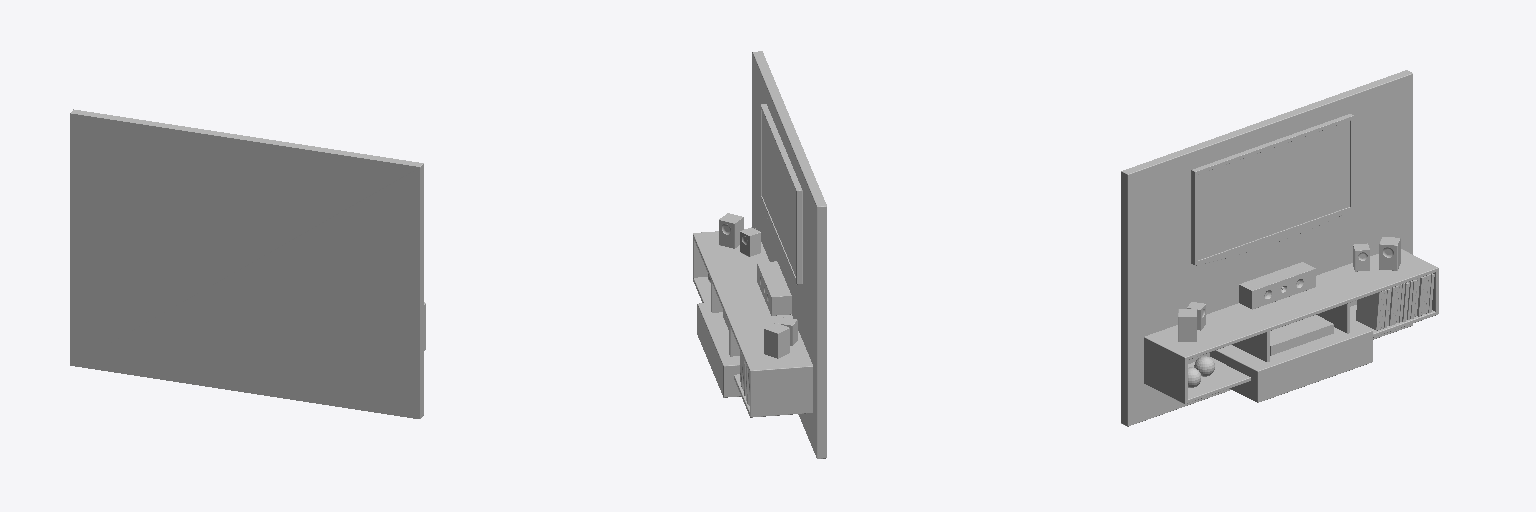
Rendered from TV PAINEL.obj.
3 renders of one model, left to right at view 1: azimuth 30°, elevation 25°; view 2: azimuth 150°, elevation 25°; view 3: azimuth 270°, elevation 25°, orthographic.
Parts seen in each view (by area): view 1: Mesh3 Group4 Group2 Group_11_1 Model; view 2: Mesh3 Group4 Group2 Group_11_1 Model, Mesh4 Group5 Group2 Group_11_1 Model, Mesh8 Group8 Group_43_1 Group_11_1 Model, Mesh2 Group3 Group2 Group_11_1 Model, Mesh9 Group9 Group_43_1 Group_11_1 Model, Mesh7 Group_49_1 Group_11_1 Model, Mesh14 Group14 Group_47_3 Group_11_1 Model, Mesh10 Group10 Group_47_1 Group_11_1 Model; view 3: Mesh3 Group4 Group2 Group_11_1 Model, Mesh4 Group5 Group2 Group_11_1 Model, Mesh8 Group8 Group_43_1 Group_11_1 Model, Mesh2 Group3 Group2 Group_11_1 Model, Mesh9 Group9 Group_43_1 Group_11_1 Model, Mesh7 Group_49_1 Group_11_1 Model, Mesh85 Group_51_1 Group_11_1 Model, Mesh77 Group36 GAMES_BOX1 Group_11_1 Model, Mesh14 Group14 Group_47_3 Group_11_1 Model, Mesh10 Group10 Group_47_1 Group_11_1 Model.
Boxes of the visible parts, x1=… form: Mesh3 Group4 Group2 Group_11_1 Model: x1=70, y1=109, x2=423, y2=418; Mesh3 Group4 Group2 Group_11_1 Model: x1=752, y1=51, x2=826, y2=458; Mesh4 Group5 Group2 Group_11_1 Model: x1=693, y1=228, x2=812, y2=417; Mesh8 Group8 Group_43_1 Group_11_1 Model: x1=762, y1=113, x2=795, y2=275; Mesh2 Group3 Group2 Group_11_1 Model: x1=697, y1=303, x2=740, y2=397; Mesh9 Group9 Group_43_1 Group_11_1 Model: x1=761, y1=104, x2=802, y2=284; Mesh7 Group_49_1 Group_11_1 Model: x1=757, y1=261, x2=791, y2=315; Mesh14 Group14 Group_47_3 Group_11_1 Model: x1=764, y1=323, x2=789, y2=358; Mesh10 Group10 Group_47_1 Group_11_1 Model: x1=719, y1=213, x2=743, y2=248; Mesh3 Group4 Group2 Group_11_1 Model: x1=1121, y1=70, x2=1412, y2=426; Mesh4 Group5 Group2 Group_11_1 Model: x1=1144, y1=249, x2=1438, y2=403; Mesh8 Group8 Group_43_1 Group_11_1 Model: x1=1198, y1=121, x2=1349, y2=259; Mesh2 Group3 Group2 Group_11_1 Model: x1=1210, y1=319, x2=1372, y2=402; Mesh9 Group9 Group_43_1 Group_11_1 Model: x1=1191, y1=114, x2=1353, y2=265; Mesh7 Group_49_1 Group_11_1 Model: x1=1239, y1=262, x2=1315, y2=309; Mesh85 Group_51_1 Group_11_1 Model: x1=1270, y1=315, x2=1333, y2=355; Mesh77 Group36 GAMES_BOX1 Group_11_1 Model: x1=1356, y1=292, x2=1381, y2=330; Mesh14 Group14 Group_47_3 Group_11_1 Model: x1=1379, y1=237, x2=1400, y2=270; Mesh10 Group10 Group_47_1 Group_11_1 Model: x1=1178, y1=309, x2=1196, y2=341.
Bounding box in the file's own units: 1.37 × 1.34 × 1.53.